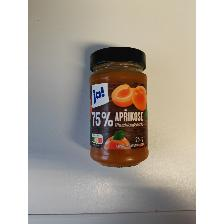Marmelade: (89, 46, 151, 168)
